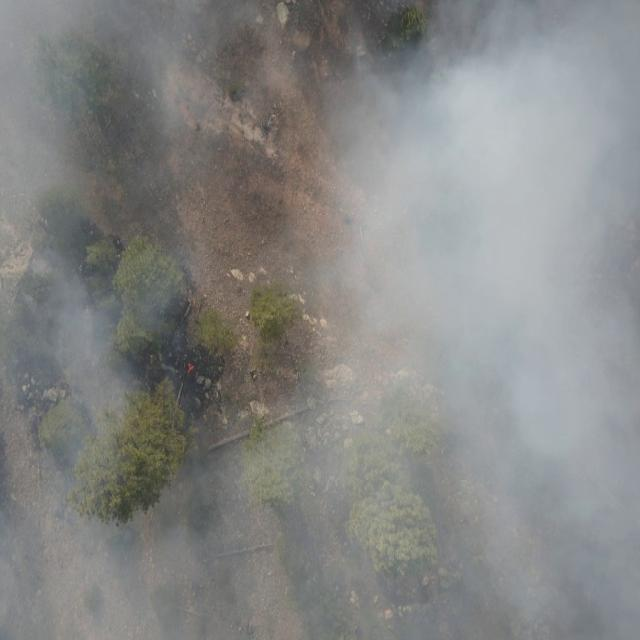fire: (182, 360, 198, 376)
smoke: (0, 0, 640, 640)
